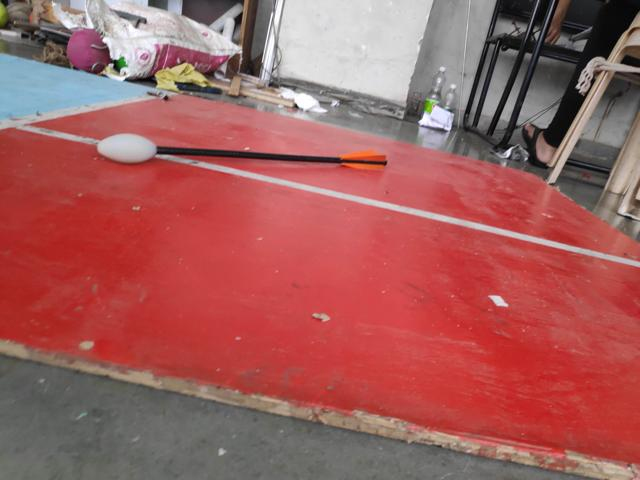Head: (95, 132, 158, 165)
Tail: (337, 146, 390, 173)
